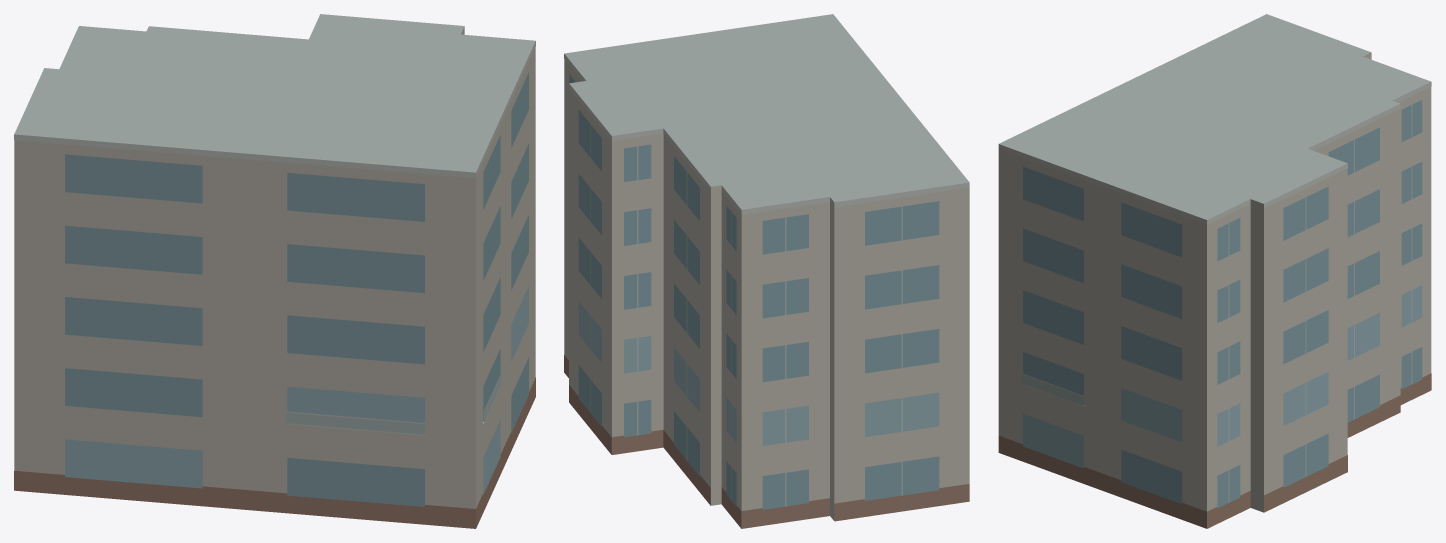
The model's file is survey-upis-32918971.glb.
3 renders of one model, left to right at view 1: azimuth 30°, elevation 25°; view 2: azimuth 150°, elevation 25°; view 3: azimuth 270°, elevation 25°, orthographic. The views are drawn at different scales.
Parts seen in each view (by area): view 1: survey-upis-32918971.tmp; view 2: survey-upis-32918971.tmp; view 3: survey-upis-32918971.tmp.
Part boxes in pixels (x1=…): survey-upis-32918971.tmp: x1=14, y1=14, x2=535, y2=528; survey-upis-32918971.tmp: x1=564, y1=14, x2=969, y2=528; survey-upis-32918971.tmp: x1=998, y1=14, x2=1431, y2=528.
Size of the model in its own units: 21.84 by 15.25 by 19.38.
